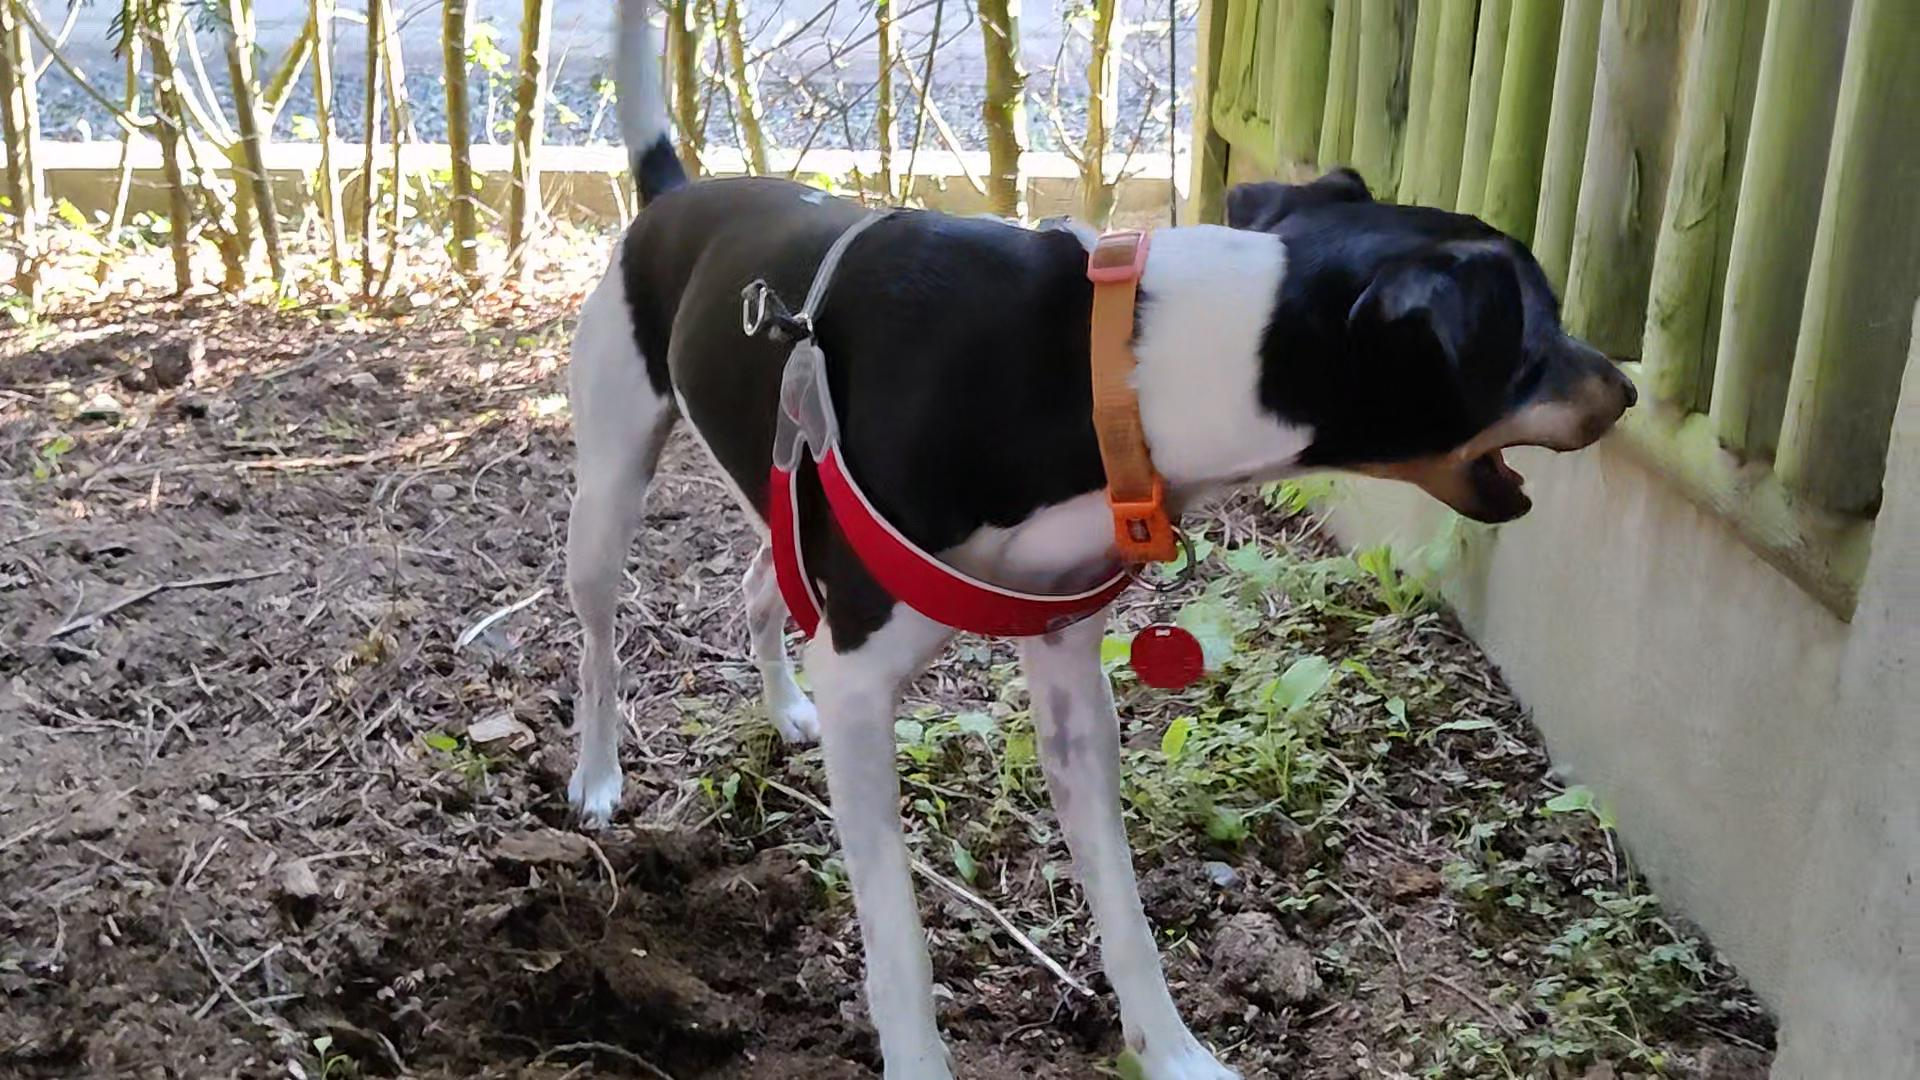Dog: (502, 0, 1654, 1079)
